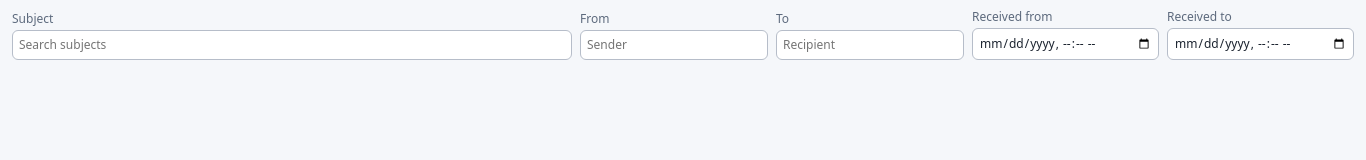
Test case: FilterBar › offers no clear button until something is typed
Type "invoice" into the search field labelled "Subject" at (292, 45), box [12, 30, 572, 60]
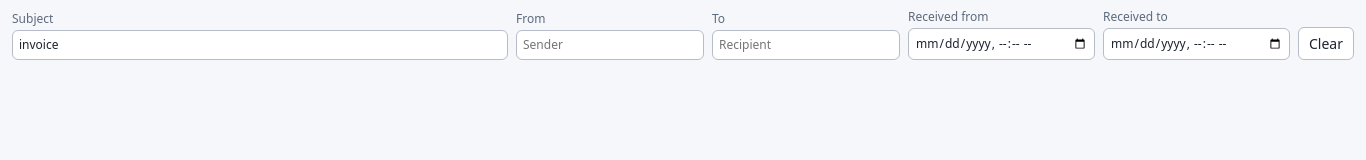
Check: the button with class "clear" is shown, box [1298, 27, 1354, 60]
